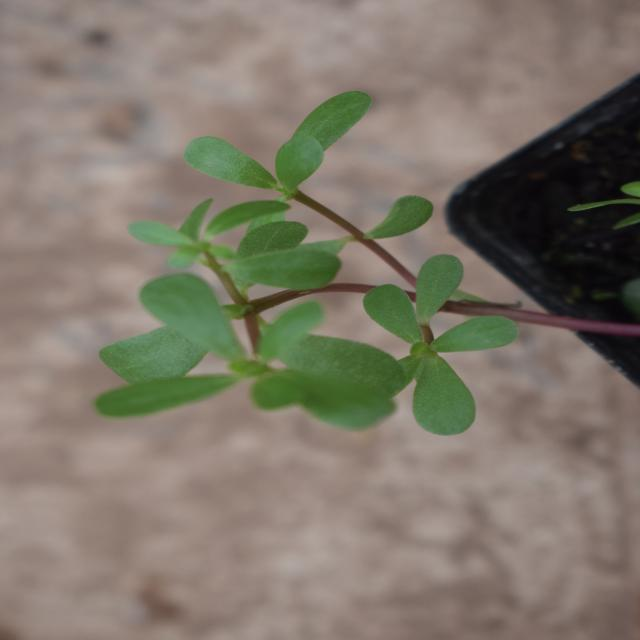purslane: (198, 87, 555, 506)
